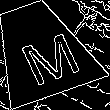M_N: (5, 18, 77, 82)
